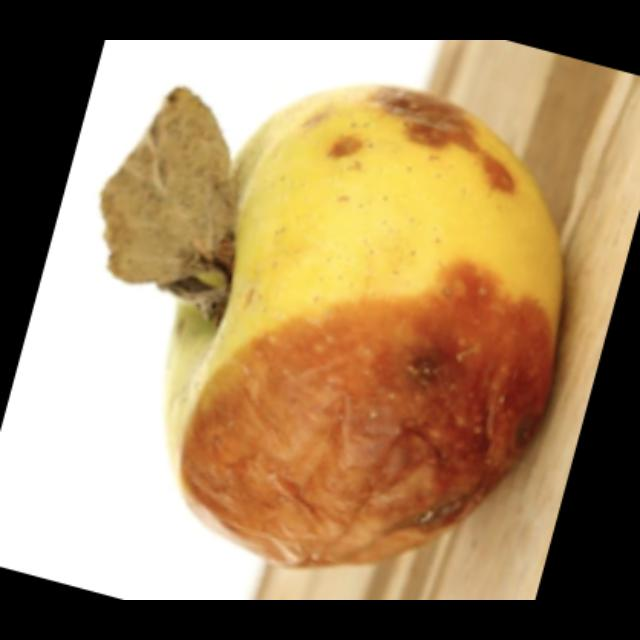Apel Tidak Segar: (33, 68, 612, 572), (598, 554, 600, 560)
